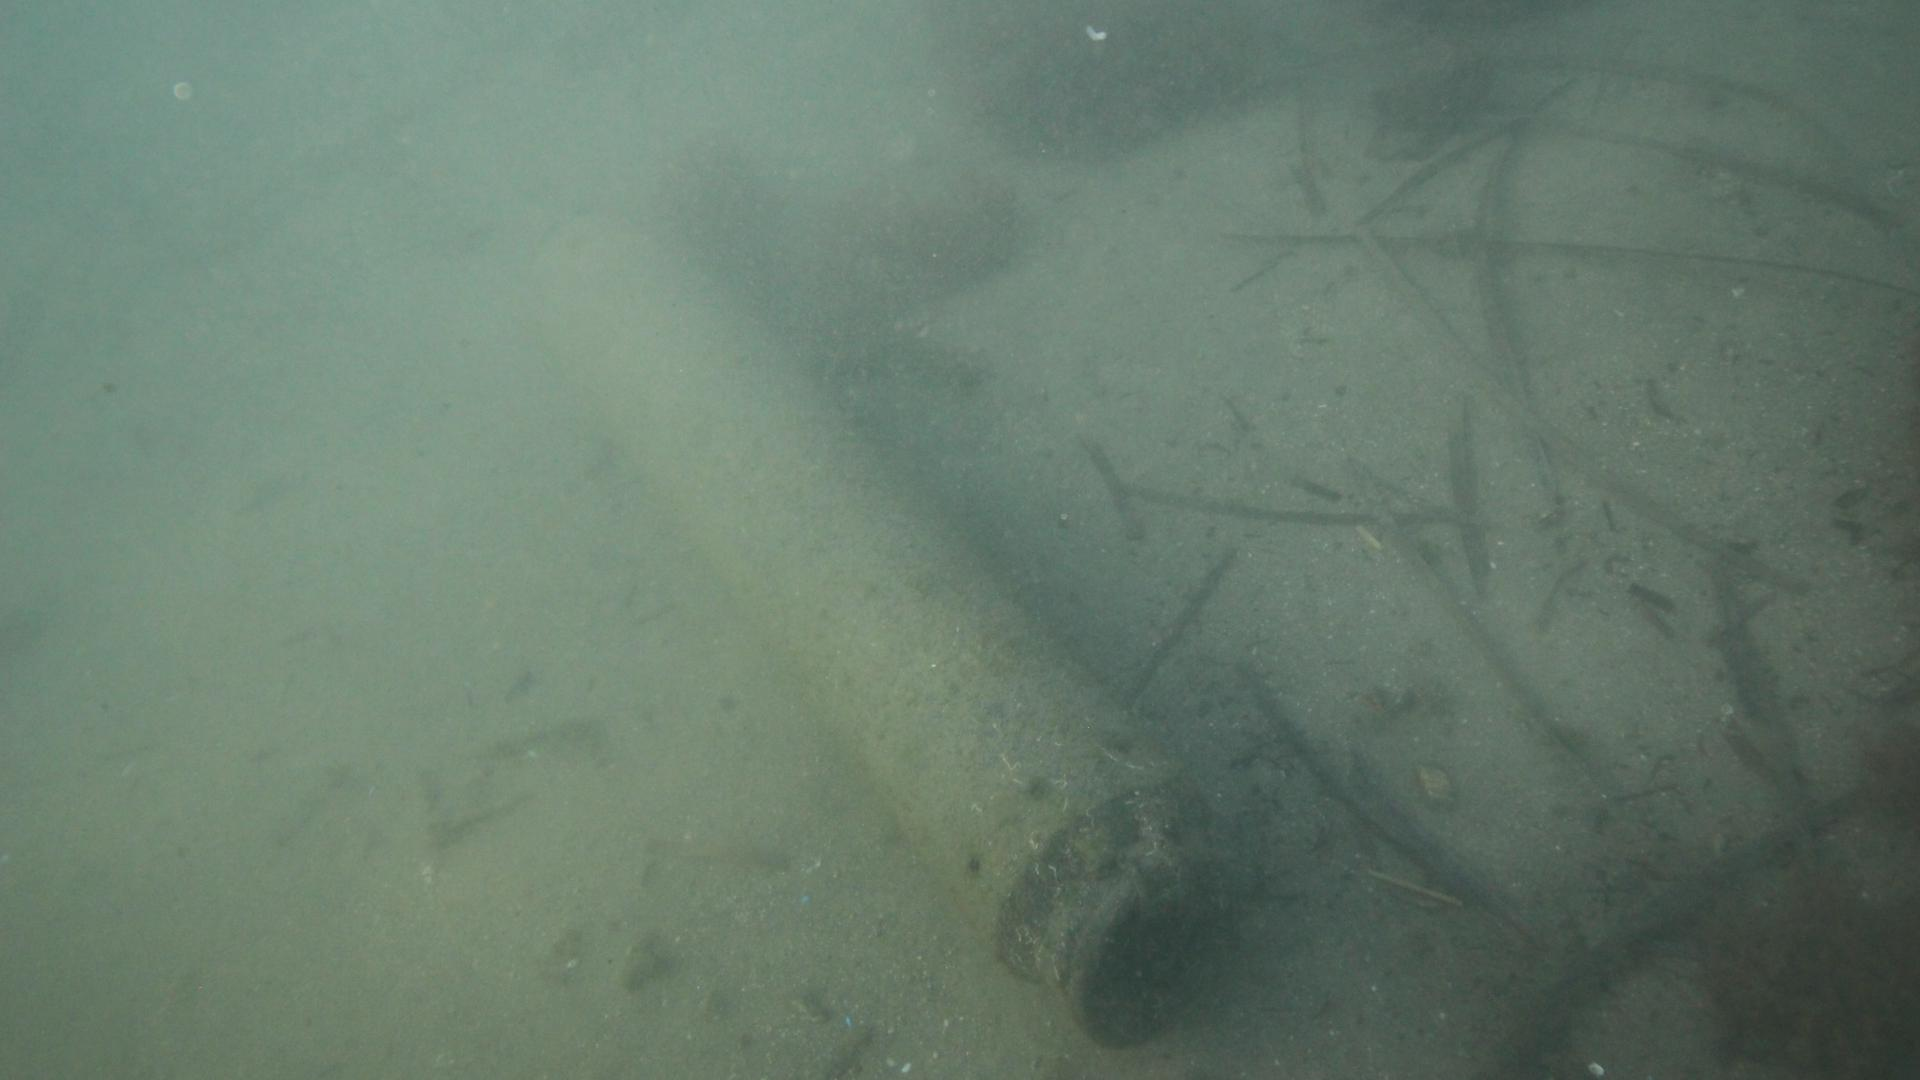eel fish trap: (525, 199, 1224, 1040)
